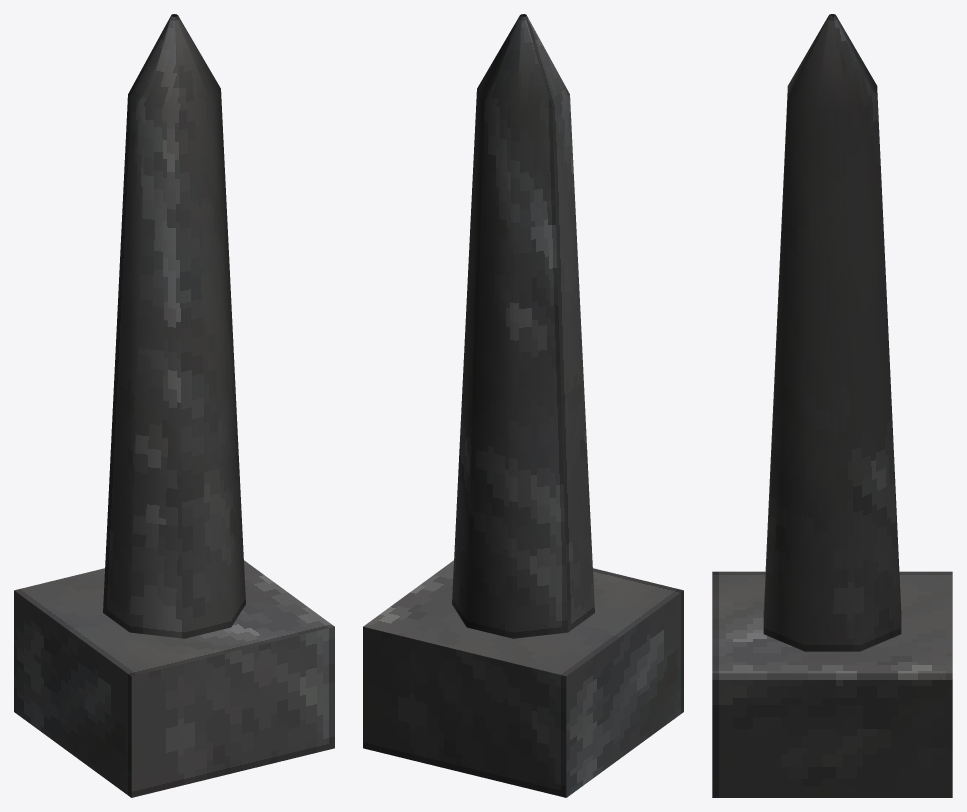
Rendered from gravestone_obelisk.glb.
3 views of the same model, side by side, from view 1: azimuth 30°, elevation 25°; view 2: azimuth 150°, elevation 25°; view 3: azimuth 270°, elevation 25° (orthographic). The views are drawn at different scales.
Parts seen in each view (by area): view 1: gravestone_obelisk; view 2: gravestone_obelisk; view 3: gravestone_obelisk.
Part boxes in pixels (x1,y1,x2,y2): gravestone_obelisk: [14, 14, 334, 797]; gravestone_obelisk: [363, 14, 683, 797]; gravestone_obelisk: [712, 14, 952, 797].
Bounding box in the file's own units: 0.7 × 2.35 × 0.7.
1 material, 1 textured.
